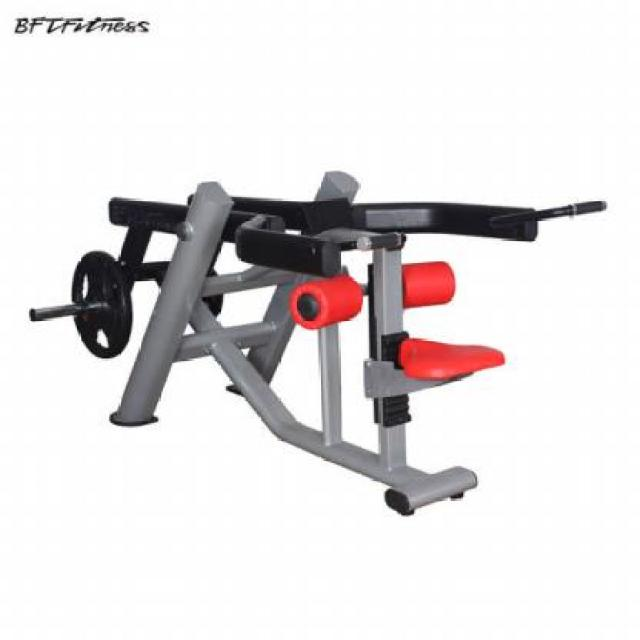seated dip machine: (29, 169, 608, 522)
